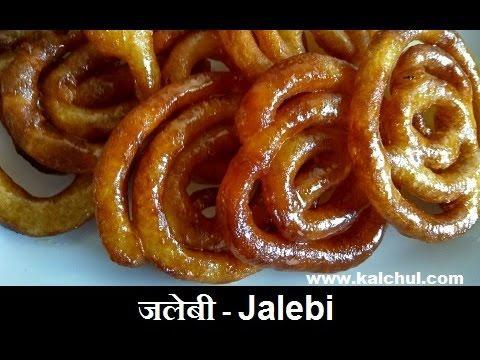jalebi: (5, 23, 479, 282)
